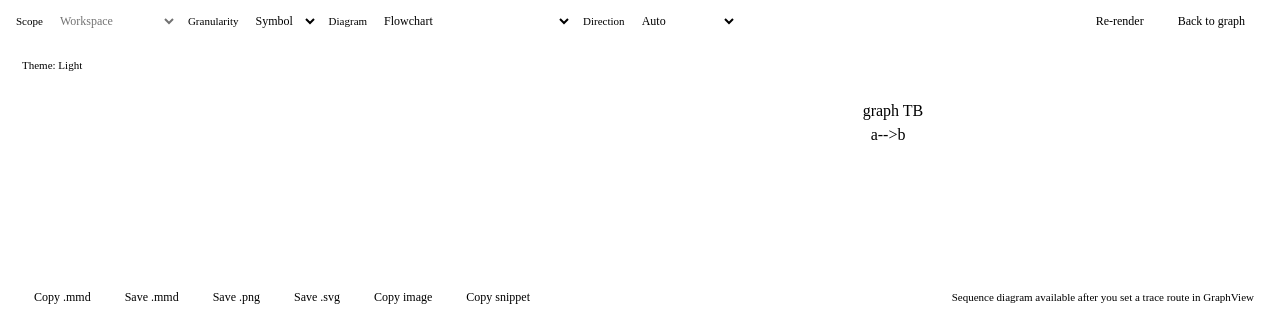
Scenario: MermaidPreviewPanel export actions (slice 029 US3 / PR-C) › shows working status while PNG is being rasterized
What coordinates should you click on to do the following:
click the button "Save .png"
I would click on:
 (233, 297)
Its box is [197,281,270,313].
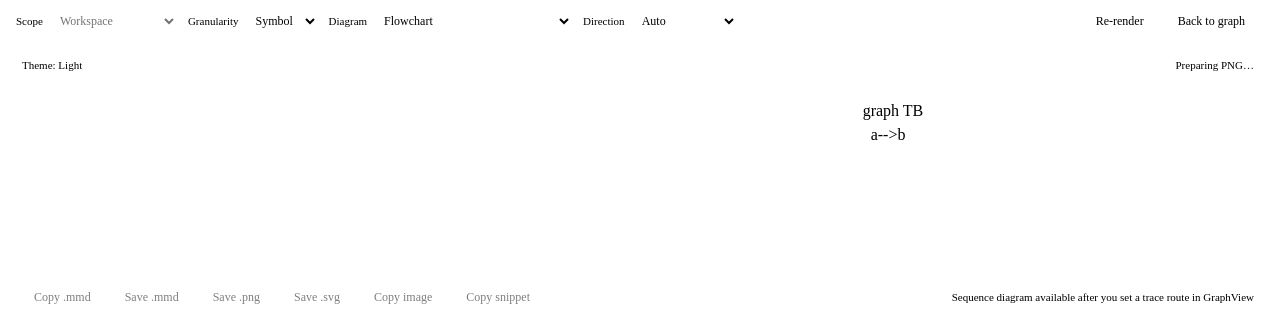
Expected: the message shows "Preparing PNG", [1176,59,1254,71]
